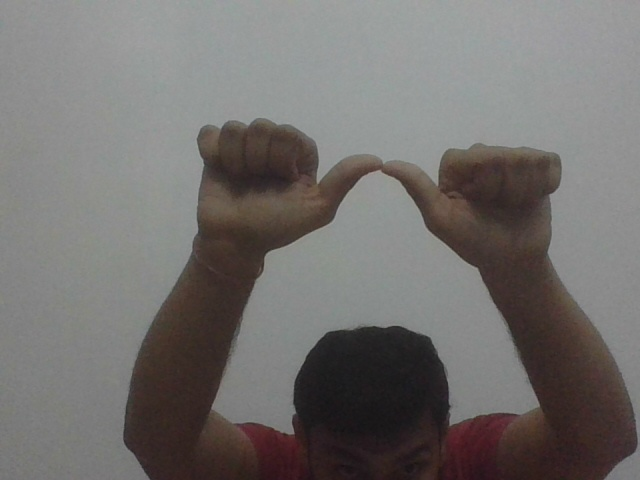A: (186, 116, 567, 263)
